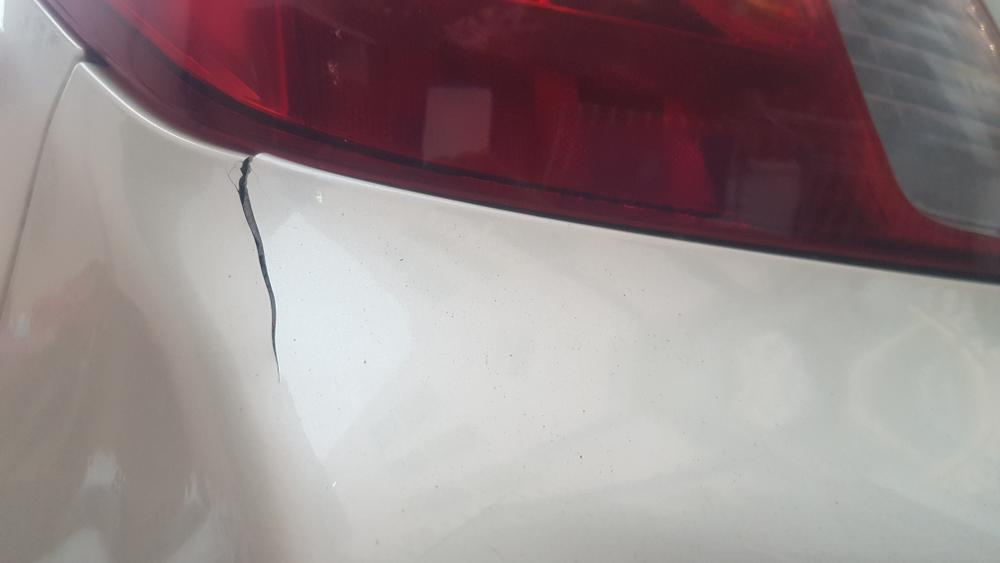crack: (237, 154, 281, 389)
